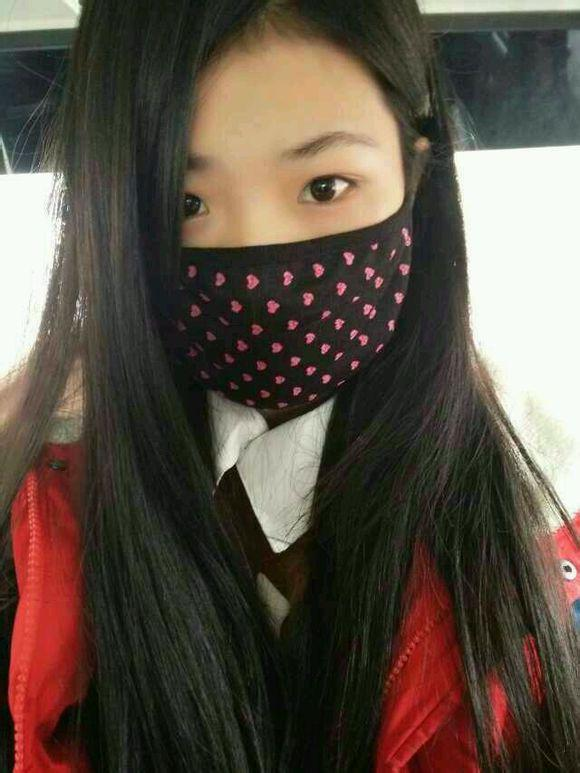OK: (131, 117, 403, 397)
